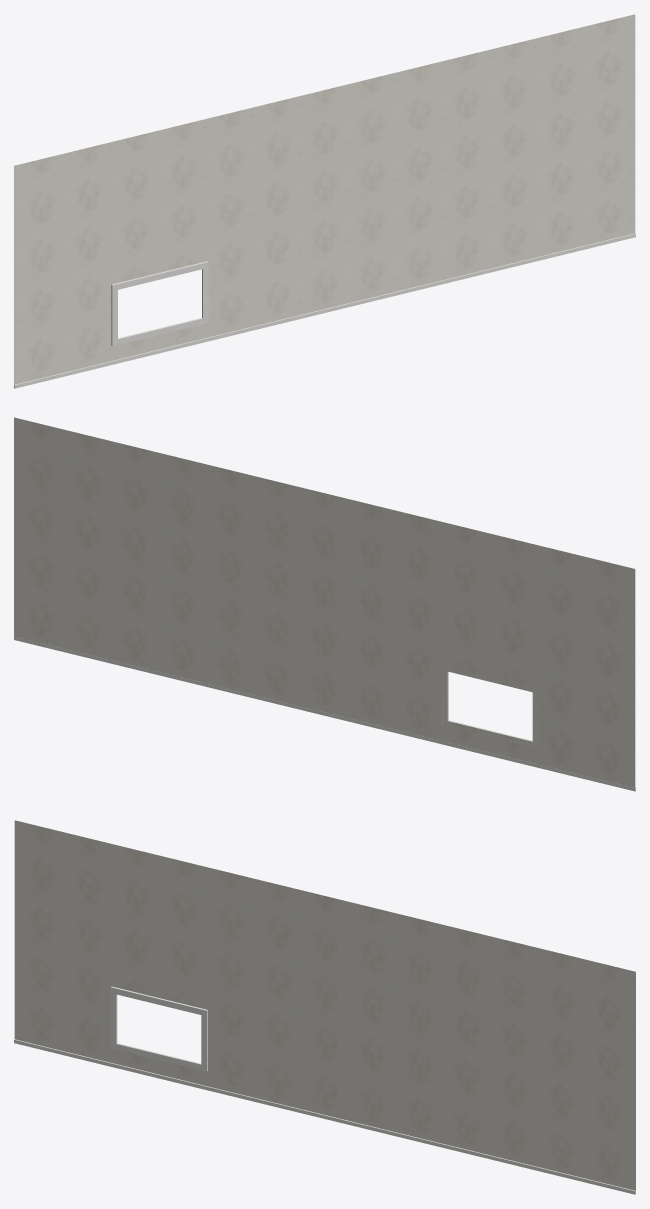
The picture shows the model from 3 angles, top to bottom: view 1: azimuth 30°, elevation 25°; view 2: azimuth 150°, elevation 25°; view 3: azimuth 330°, elevation 25°; orthographic projection.
Visible parts, largest first — view 1: jx_wm_26_a4ce9b78; view 2: jx_wm_26_a4ce9b78; view 3: jx_wm_26_a4ce9b78.
Part boxes in pixels (box(x1,y1,x2,y2)): jx_wm_26_a4ce9b78: box(14, 14, 635, 388); jx_wm_26_a4ce9b78: box(14, 417, 635, 791); jx_wm_26_a4ce9b78: box(14, 820, 635, 1194).
Bounding box in the file's own units: 26.3 × 9 × 0.086.
Materials: 2 (2 with a texture image).
